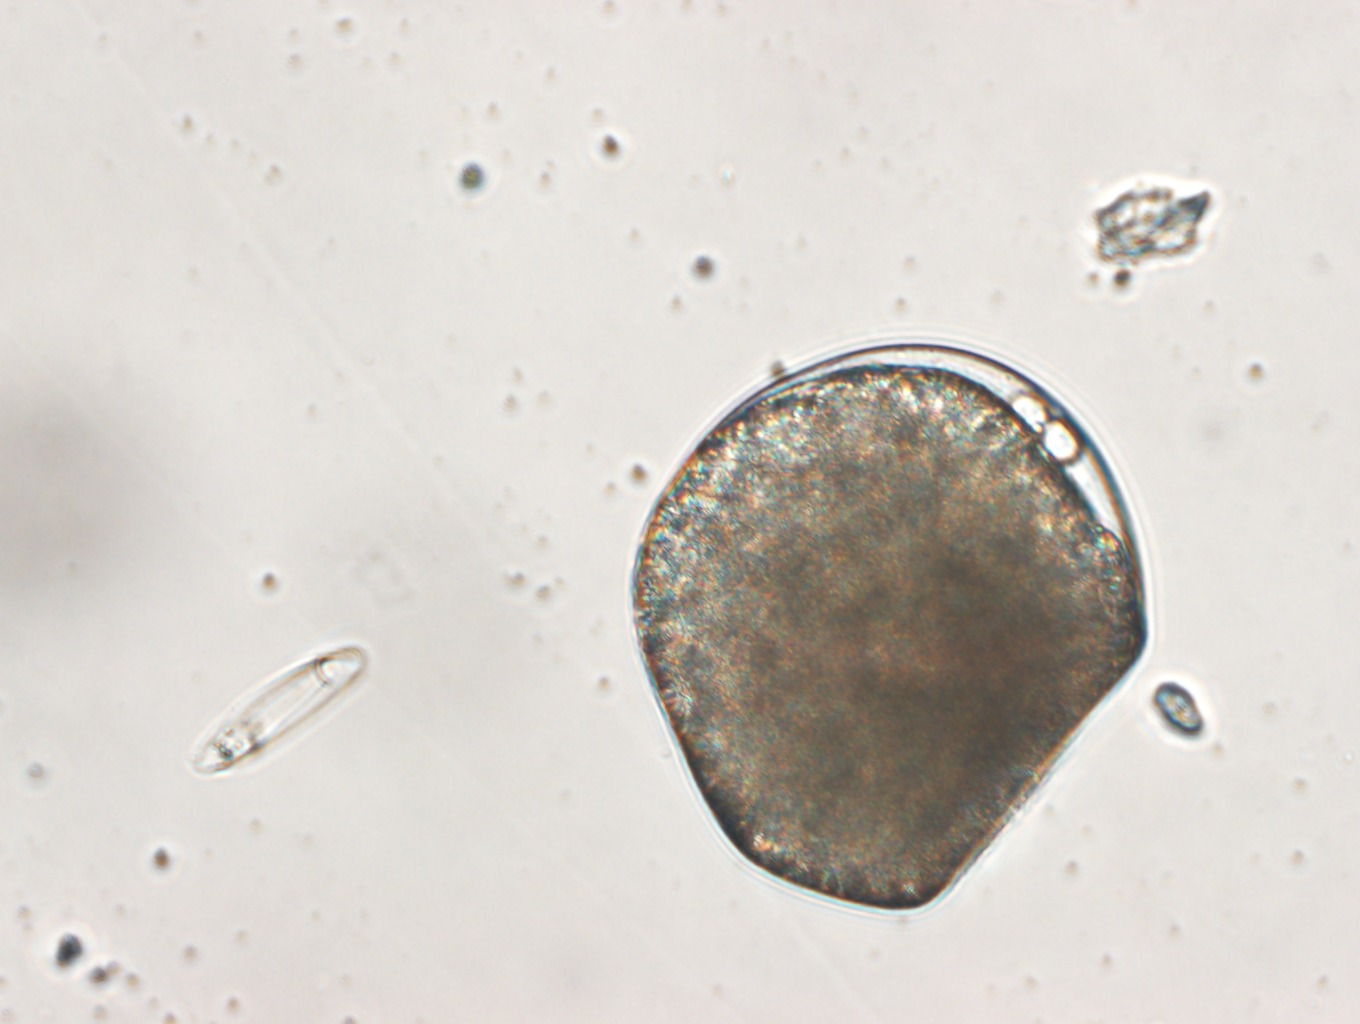coscinodiscus: (624, 333, 1154, 916)
